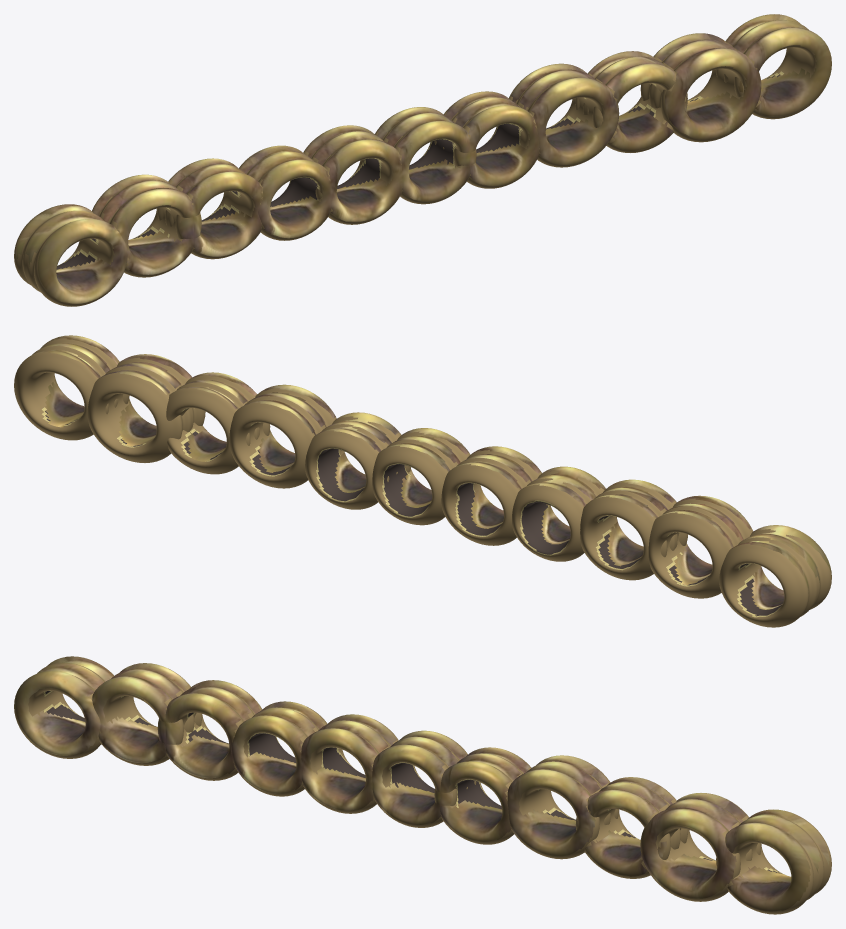
The model's file is collar_separador_quimbaya.glb.
The picture shows the model from 3 angles, top to bottom: view 1: azimuth 30°, elevation 25°; view 2: azimuth 150°, elevation 25°; view 3: azimuth 330°, elevation 25°; orthographic projection.
Visible parts, largest first — view 1: collar_separador_quimbaya; view 2: collar_separador_quimbaya; view 3: collar_separador_quimbaya.
Boxes of the visible parts, box(x1,y1,x2,y2) form: collar_separador_quimbaya: box(14, 14, 831, 306); collar_separador_quimbaya: box(14, 335, 831, 627); collar_separador_quimbaya: box(14, 656, 831, 914).
Size of the model in its own units: 7.83 by 0.9811 by 0.6109.
1 material, 1 textured.
